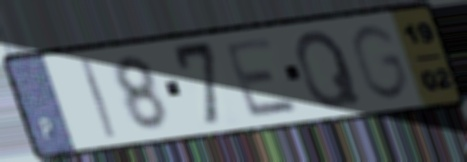7: (167, 39, 226, 131)
8: (107, 52, 173, 133)
E: (220, 34, 304, 121)
G: (347, 21, 413, 103)
I: (77, 56, 121, 141)
Q: (292, 27, 365, 113)
